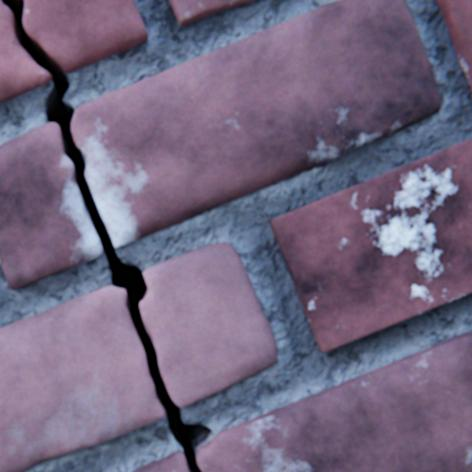brick: (269, 138, 471, 351), (435, 0, 471, 94), (168, 0, 258, 27)
broken_brick: (72, 0, 439, 248), (197, 330, 471, 471), (0, 286, 165, 471), (140, 243, 277, 407), (0, 123, 102, 290), (23, 0, 147, 74), (0, 1, 52, 104), (132, 449, 188, 471)
crack: (0, 0, 212, 471)
